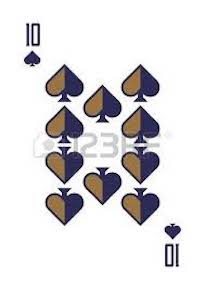TenOfSpades: (13, 13, 195, 280)
